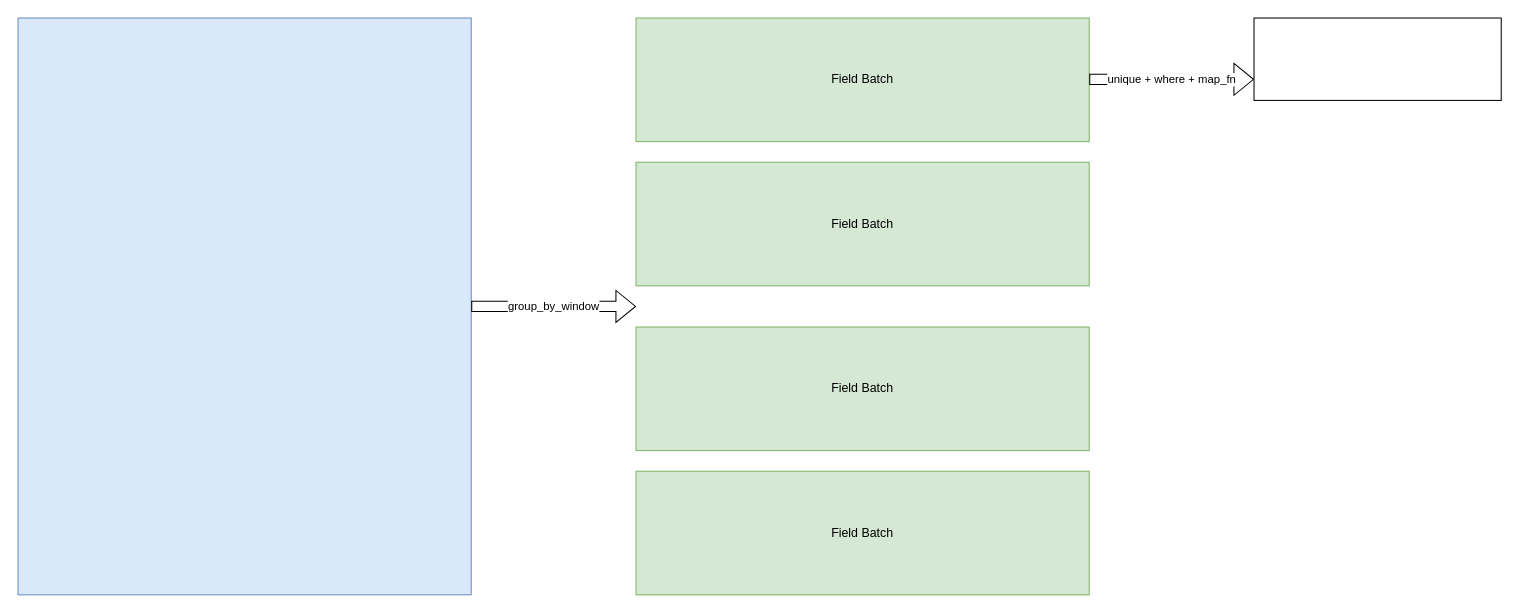
This 1519x613 diagram has some shape labels left out. Each missing label, with the centre of its shape:
H3 level Batch: point 244,306
HEX L12 TIME 1 HEX L12 TIME 2 HEX L12 TIME 3 HEX L12 TIME .. HEX L12 TIME X: point 1377,58
